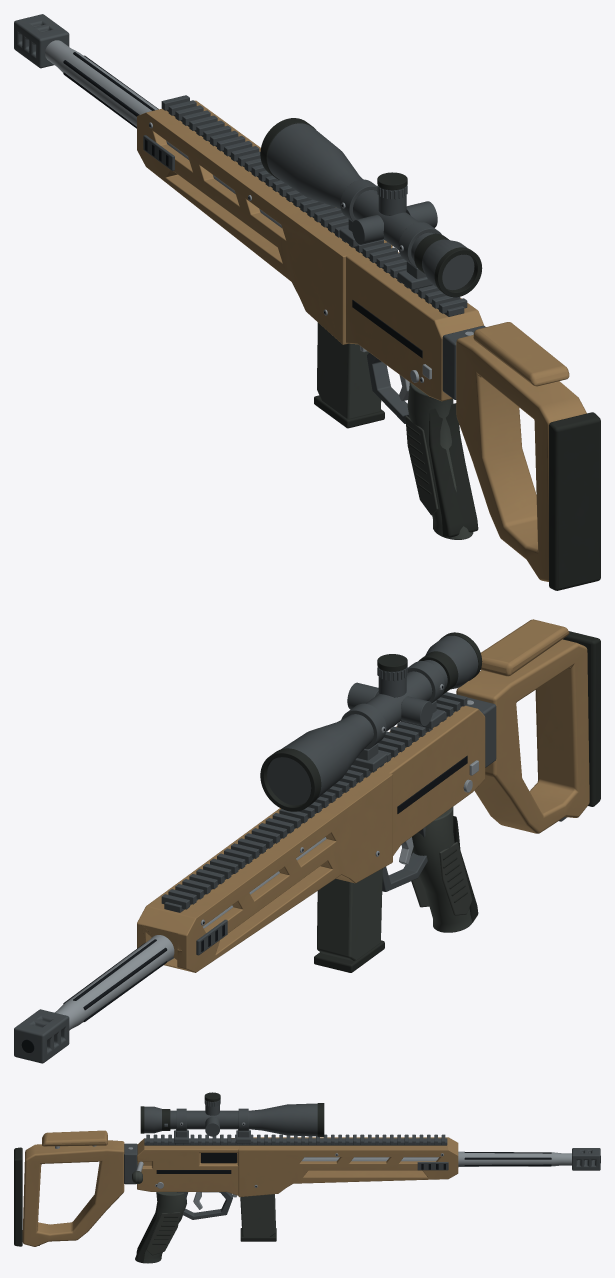
The model's file is kestrel.glb.
The picture shows the model from 3 angles, top to bottom: view 1: azimuth 30°, elevation 25°; view 2: azimuth 150°, elevation 25°; view 3: azimuth 270°, elevation 25°; orthographic projection. The views are drawn at different scales.
Visible parts, largest first — view 1: Kestrel_Static_Desert cerakote, Kestrel_Stock, Kestrel_Static_Treated graphite, Kestrel_Buttpad, Kestrel_Scope, Kestrel_Static_Dense rubber, Kestrel_Magazine, Kestrel_CheekRiser, Kestrel_Barrel, Kestrel_Grip, Kestrel_Static_Recess shadow, Kestrel_Static_Grip stipple (+2 smaller); view 2: Kestrel_Static_Desert cerakote, Kestrel_Stock, Kestrel_Static_Treated graphite, Kestrel_Scope, Kestrel_Magazine, Kestrel_Barrel, Kestrel_Grip, Kestrel_CheekRiser, Kestrel_Buttpad, Kestrel_Static_Recess shadow, Kestrel_Static_Grip stipple, Kestrel_ObjectiveBezel (+7 smaller); view 3: Kestrel_Static_Desert cerakote, Kestrel_Stock, Kestrel_Static_Treated graphite, Kestrel_Scope, Kestrel_Barrel, Kestrel_Magazine, Kestrel_Static_Recess shadow, Kestrel_CheekRiser, Kestrel_Grip, Kestrel_Buttpad, Kestrel_Static_Grip stipple, Kestrel_Static_Dense rubber (+4 smaller).
Part boxes in pixels (x1,y1,x2,y2): Kestrel_Static_Desert cerakote: [137, 100, 483, 401]; Kestrel_Stock: [456, 335, 586, 581]; Kestrel_Static_Treated graphite: [14, 14, 485, 423]; Kestrel_Buttpad: [549, 412, 600, 590]; Kestrel_Scope: [267, 123, 474, 290]; Kestrel_Static_Dense rubber: [406, 403, 478, 537]; Kestrel_Magazine: [317, 322, 381, 418]; Kestrel_CheekRiser: [473, 322, 569, 386]; Kestrel_Barrel: [45, 40, 281, 227]; Kestrel_Grip: [407, 382, 473, 539]; Kestrel_Static_Recess shadow: [63, 52, 422, 381]; Kestrel_Static_Grip stipple: [405, 415, 464, 515]; Kestrel_Static_Desert cerakote: [137, 705, 485, 972]; Kestrel_Stock: [456, 639, 589, 833]; Kestrel_Static_Treated graphite: [14, 692, 496, 1063]; Kestrel_Scope: [267, 635, 478, 805]; Kestrel_Magazine: [317, 868, 382, 960]; Kestrel_Barrel: [55, 837, 326, 1030]; Kestrel_Grip: [411, 807, 472, 932]; Kestrel_CheekRiser: [480, 619, 569, 676]; Kestrel_Buttpad: [563, 631, 600, 806]; Kestrel_Static_Recess shadow: [21, 755, 467, 1052]; Kestrel_Static_Grip stipple: [411, 842, 472, 915]; Kestrel_ObjectiveBezel: [260, 748, 321, 811]; Kestrel_Static_Desert cerakote: [137, 1137, 458, 1197]; Kestrel_Stock: [22, 1140, 124, 1246]; Kestrel_Static_Treated graphite: [124, 1134, 600, 1219]; Kestrel_Scope: [144, 1103, 317, 1136]; Kestrel_Barrel: [301, 1151, 571, 1167]; Kestrel_Magazine: [240, 1194, 275, 1236]; Kestrel_Static_Recess shadow: [156, 1152, 600, 1187]; Kestrel_CheekRiser: [42, 1130, 107, 1146]; Kestrel_Grip: [135, 1192, 186, 1263]; Kestrel_Buttpad: [14, 1147, 22, 1246]; Kestrel_Static_Grip stipple: [146, 1212, 180, 1255]; Kestrel_Static_Dense rubber: [136, 1199, 177, 1262].
Bounding box in the file's own units: 0.0945 × 0.2914 × 0.9456.
Materials: 8 (8 with a texture image).
